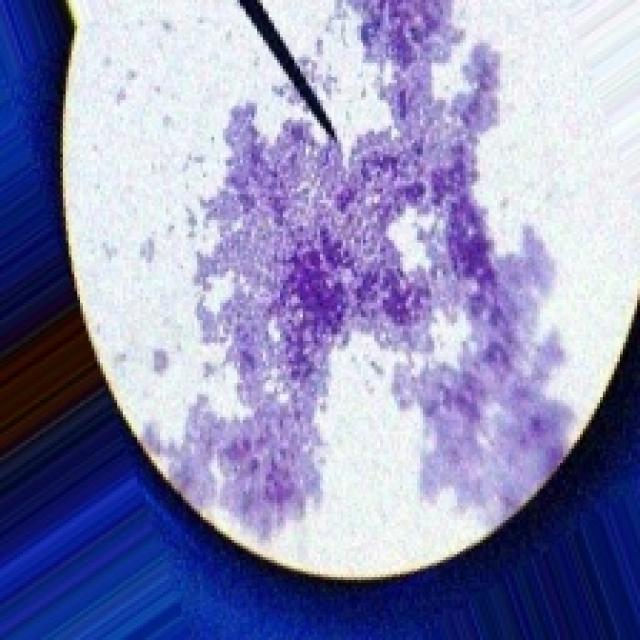Rod_bacteria: (45, 12, 627, 569)
